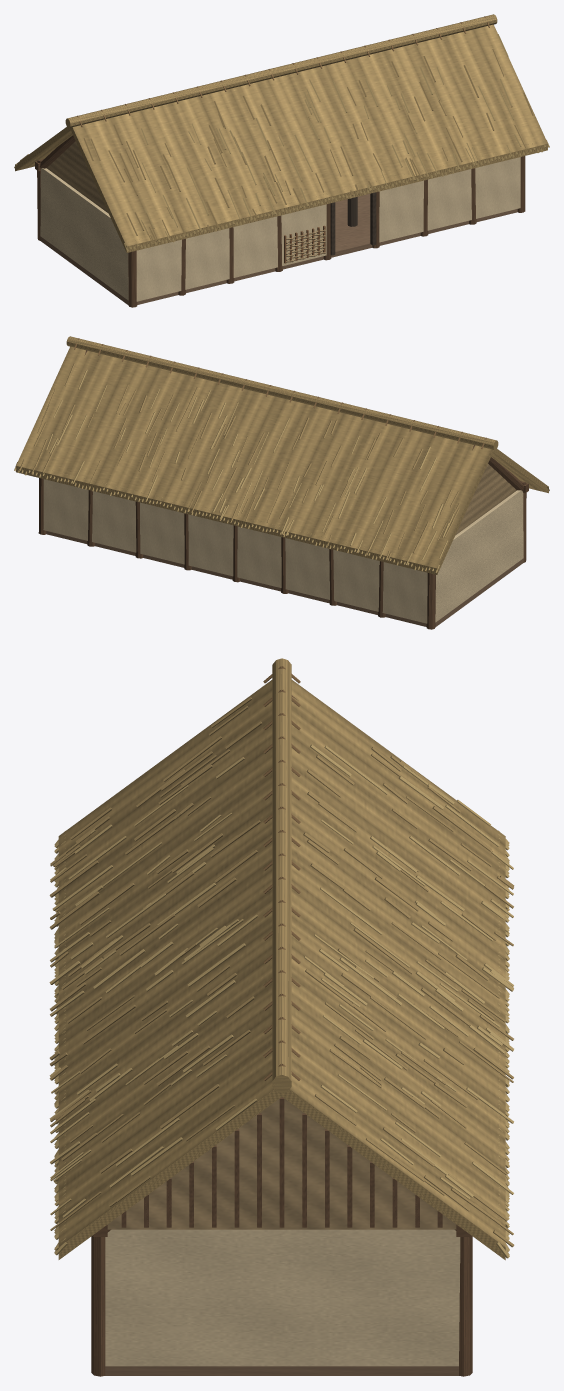
File: wood_longhouse.glb
3 renders of one model, top to bottom at view 1: azimuth 30°, elevation 25°; view 2: azimuth 150°, elevation 25°; view 3: azimuth 270°, elevation 25°, orthographic. The views are drawn at different scales.
Parts seen in each view (by area): view 1: wood_longhouse; view 2: wood_longhouse; view 3: wood_longhouse.
Boxes of the visible parts, bbox=[...] form: wood_longhouse: bbox=[14, 14, 549, 307]; wood_longhouse: bbox=[14, 336, 549, 629]; wood_longhouse: bbox=[49, 658, 514, 1376].
Size of the model in its own units: 12.22 by 4.36 by 5.76.
1 material, 1 textured.
